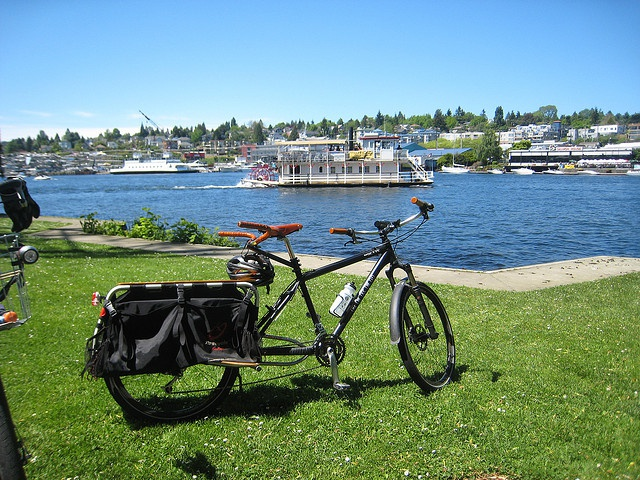non-vehicle: (99, 204, 459, 424), (0, 178, 39, 479)
